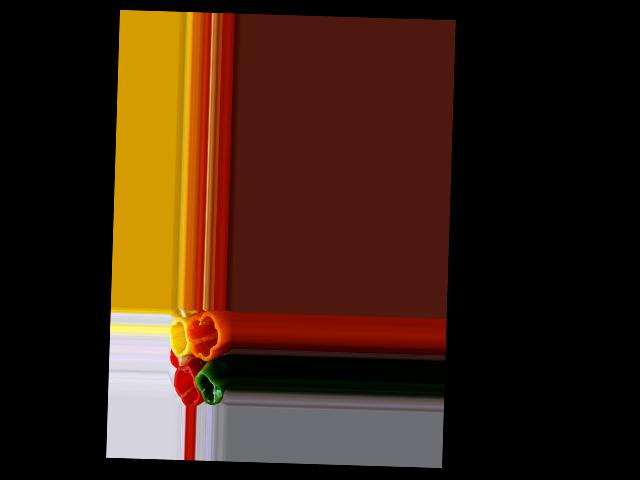bell_pepper: (172, 364, 199, 404)
